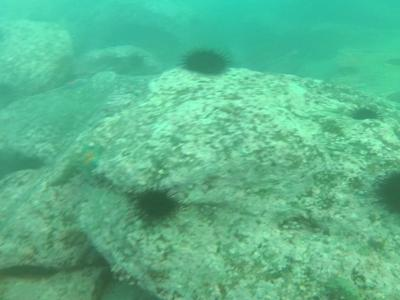urchin: (129, 181, 181, 225), (179, 45, 229, 77), (369, 165, 397, 217)
